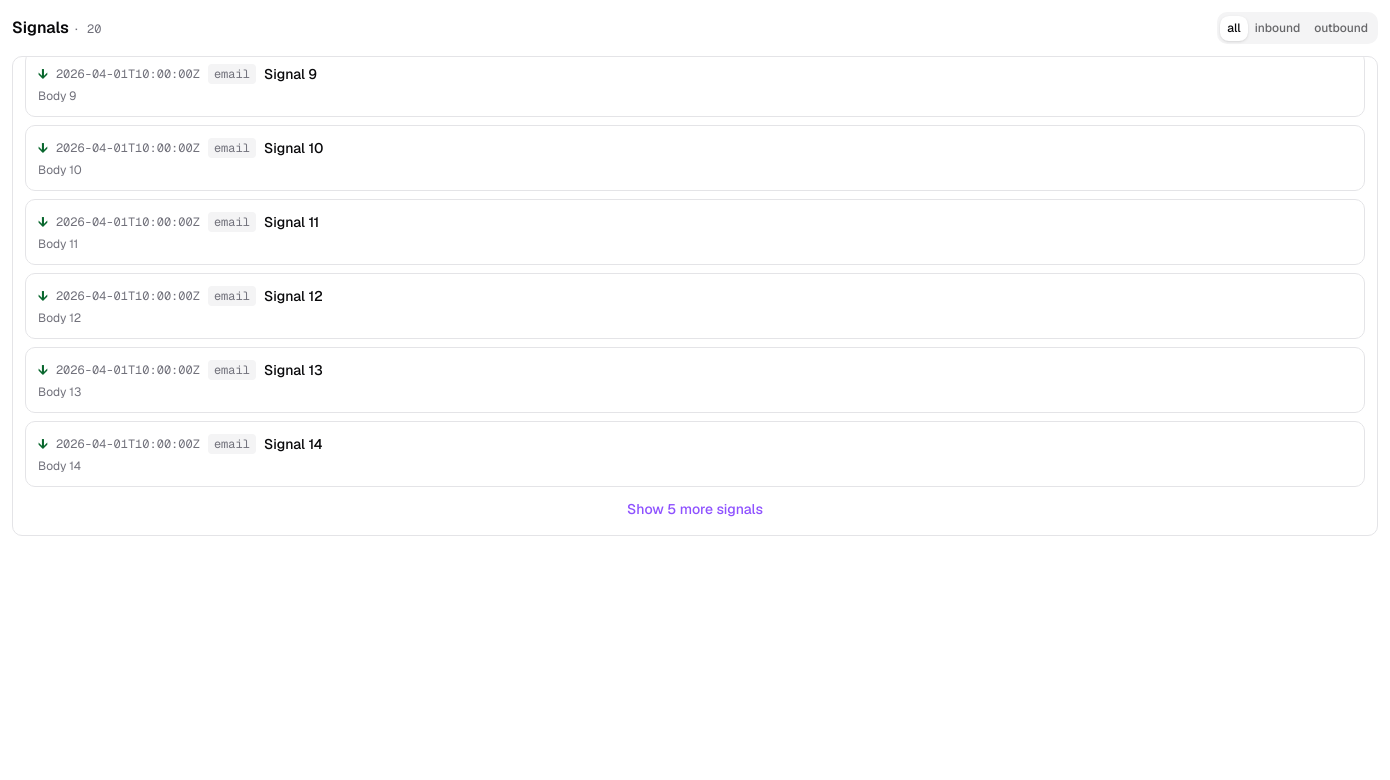
SignalsTimeline › capped render window › reveals more rows on click without a second page appearing prematurely
(page scrolled)
Click the button "Show 5 more signals" at (695, 509), box [25, 495, 1365, 523]
(page scrolled)
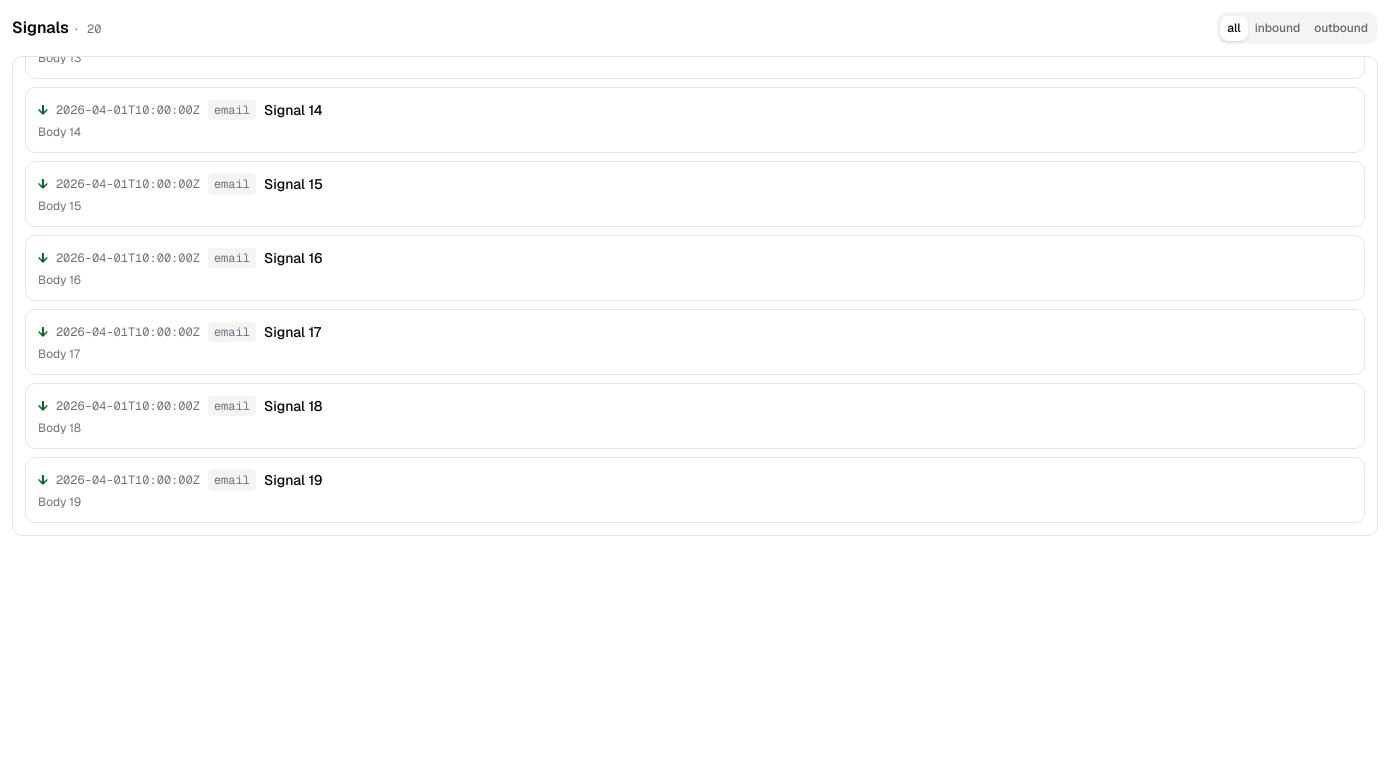
Expected: the text "Signal 19" is shown, [264, 470, 323, 490]
Expected: the button "Show 5 more signals" is gone
